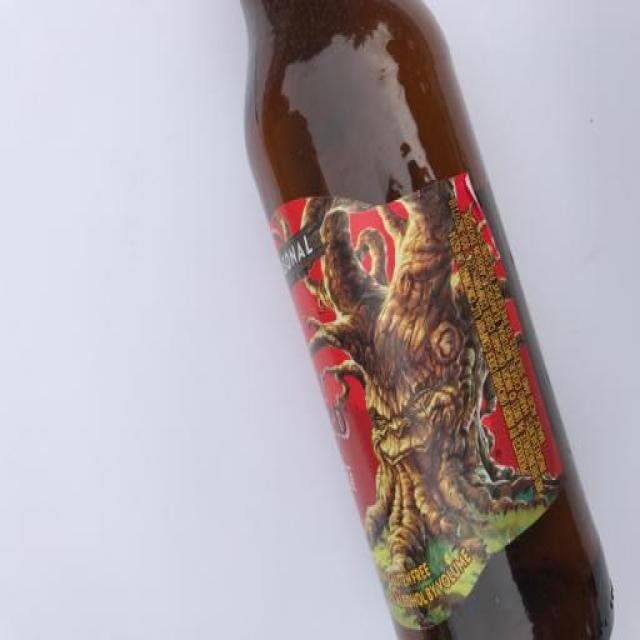glass: (214, 1, 626, 640)
